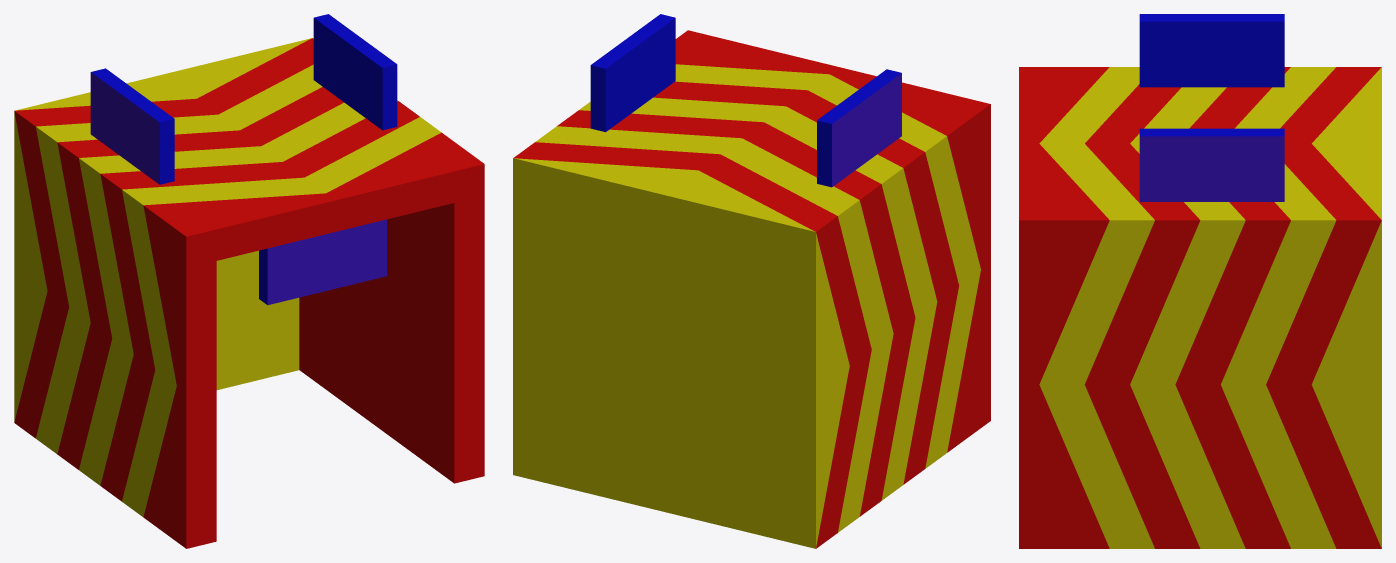
File: NW_ABANDONEDMINE_BETA.OBJ
3 views of the same model, side by side, from view 1: azimuth 30°, elevation 25°; view 2: azimuth 150°, elevation 25°; view 3: azimuth 270°, elevation 25° (orthographic). The views are drawn at different scales.
Visible parts, largest first — view 1: NW_ABANDONEDMINE_BETA; view 2: NW_ABANDONEDMINE_BETA; view 3: NW_ABANDONEDMINE_BETA.
Part boxes in pixels (x1,y1,x2,y2): NW_ABANDONEDMINE_BETA: (14, 14, 484, 548); NW_ABANDONEDMINE_BETA: (513, 14, 990, 548); NW_ABANDONEDMINE_BETA: (1019, 14, 1381, 548).
Size of the model in its own units: 5 by 6.04 by 5.
